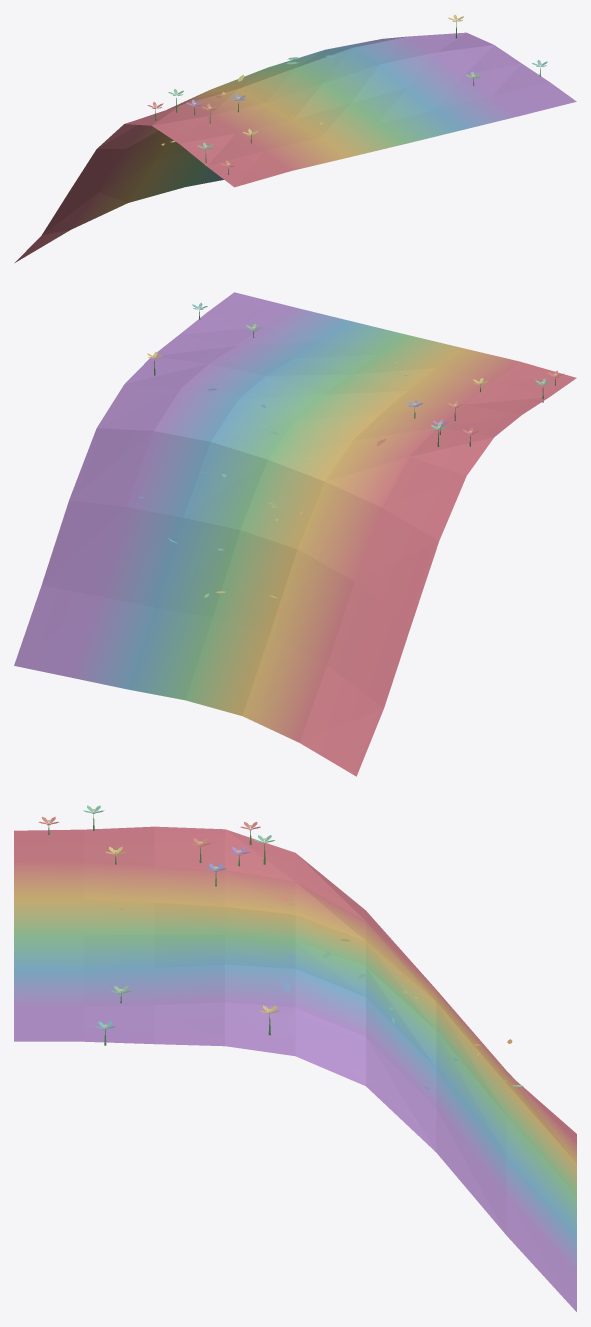
The model's file is rb_endcap_island.glb.
3 renders of one model, top to bottom at view 1: azimuth 30°, elevation 25°; view 2: azimuth 150°, elevation 25°; view 3: azimuth 270°, elevation 25°, orthographic. The views are drawn at different scales.
Parts seen in each view (by area): view 1: rb_start_halo, rb_start_petals; view 2: rb_start_halo, rb_start_petals; view 3: rb_start_halo, rb_start_petals.
Part boxes in pixels (left/top/right/bottom): rb_start_halo: left=15, top=32, right=576, bottom=262; rb_start_petals: left=147, top=14, right=547, bottom=174; rb_start_halo: left=14, top=292, right=576, bottom=776; rb_start_petals: left=139, top=302, right=563, bottom=611; rb_start_halo: left=14, top=826, right=576, bottom=1311; rb_start_petals: left=38, top=805, right=523, bottom=1095.
Bounding box in the file's own units: 3.61 × 2.49 × 3.9.
